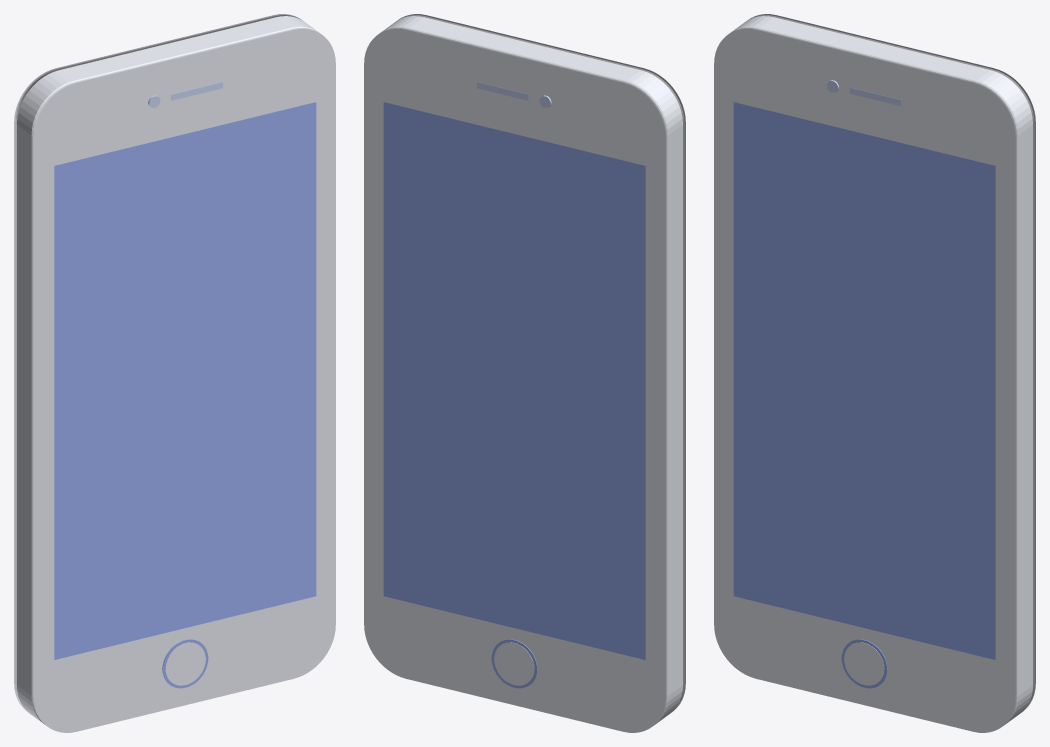
3 renders of one model, left to right at view 1: azimuth 30°, elevation 25°; view 2: azimuth 150°, elevation 25°; view 3: azimuth 330°, elevation 25°, orthographic.
Bounding box in the file's own units: 1 × 2.06 × 0.1281.
